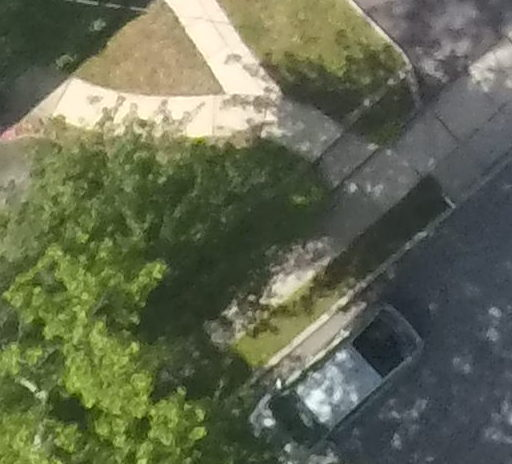car: (237, 291, 433, 464)
